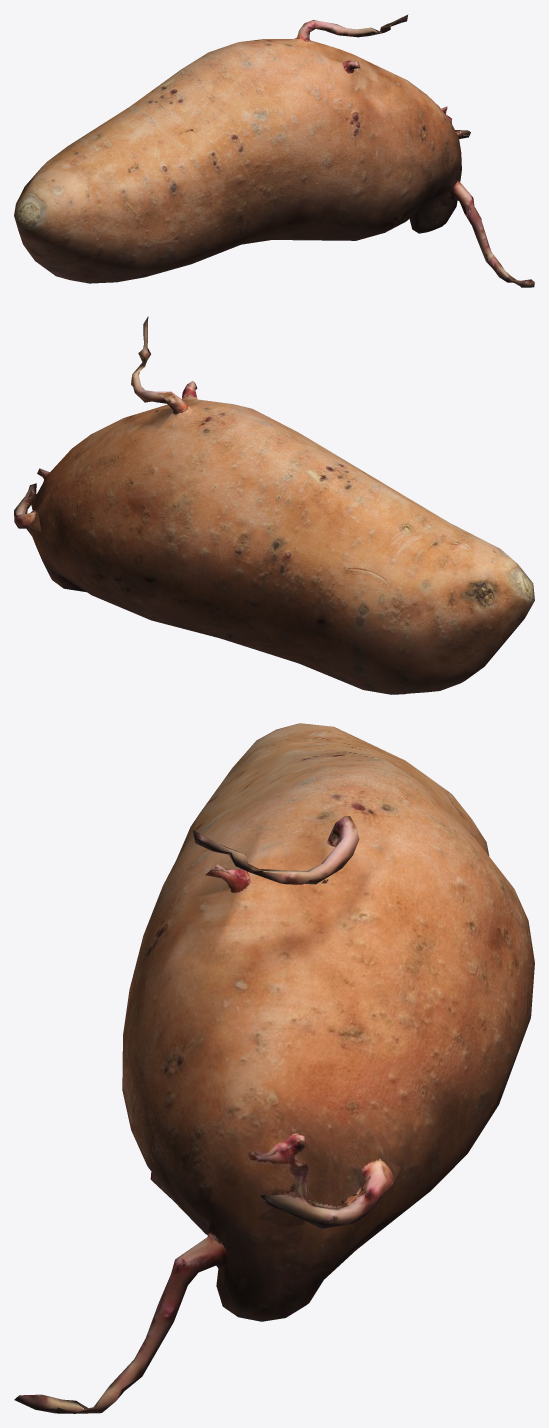
File: 12_potato_sweet.glb
3 renders of one model, top to bottom at view 1: azimuth 30°, elevation 25°; view 2: azimuth 150°, elevation 25°; view 3: azimuth 270°, elevation 25°, orthographic. The views are drawn at different scales.
Visible parts, largest first — view 1: 12_potato; view 2: 12_potato; view 3: 12_potato.
Part boxes in pixels (x1,y1,x2,y2): 12_potato: [14, 14, 534, 287]; 12_potato: [14, 316, 534, 694]; 12_potato: [14, 723, 534, 1413].
Size of the model in its own units: 1.01 by 0.5763 by 0.5311.
Materials: 1 (1 with a texture image).
